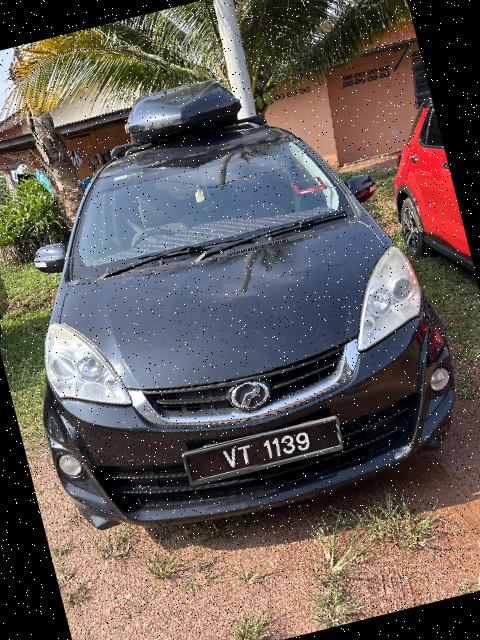License_Plate: (179, 413, 348, 491)
car: (1, 26, 480, 564)
